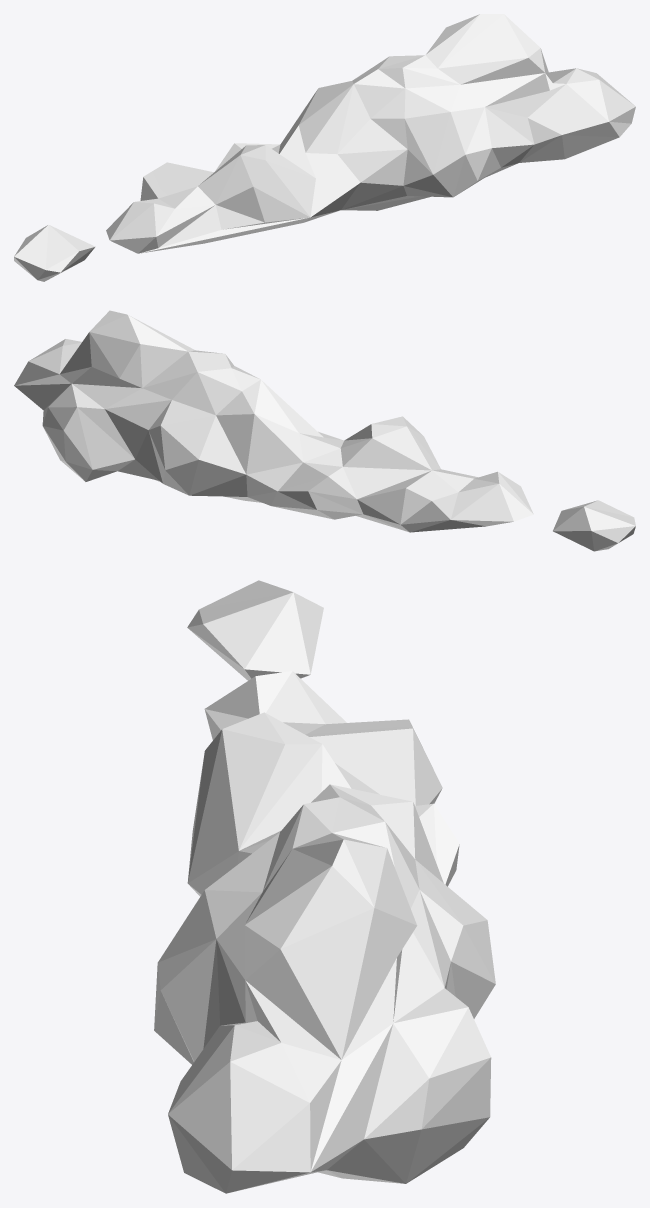
The model's file is SM_Generic_Cloud_01.glb.
3 views of the same model, one above another, from view 1: azimuth 30°, elevation 25°; view 2: azimuth 150°, elevation 25°; view 3: azimuth 270°, elevation 25° (orthographic). The views are drawn at different scales.
Visible parts, largest first — view 1: SM_Generic_Cloud_01; view 2: SM_Generic_Cloud_01; view 3: SM_Generic_Cloud_01.
Boxes of the visible parts, <box> form: SM_Generic_Cloud_01: <box>14,14,635,281</box>; SM_Generic_Cloud_01: <box>14,310,635,551</box>; SM_Generic_Cloud_01: <box>154,580,495,1193</box>.
Bounding box in the file's own units: 6.68 × 1.65 × 1.61.
Materials: 1 (1 with a texture image).
